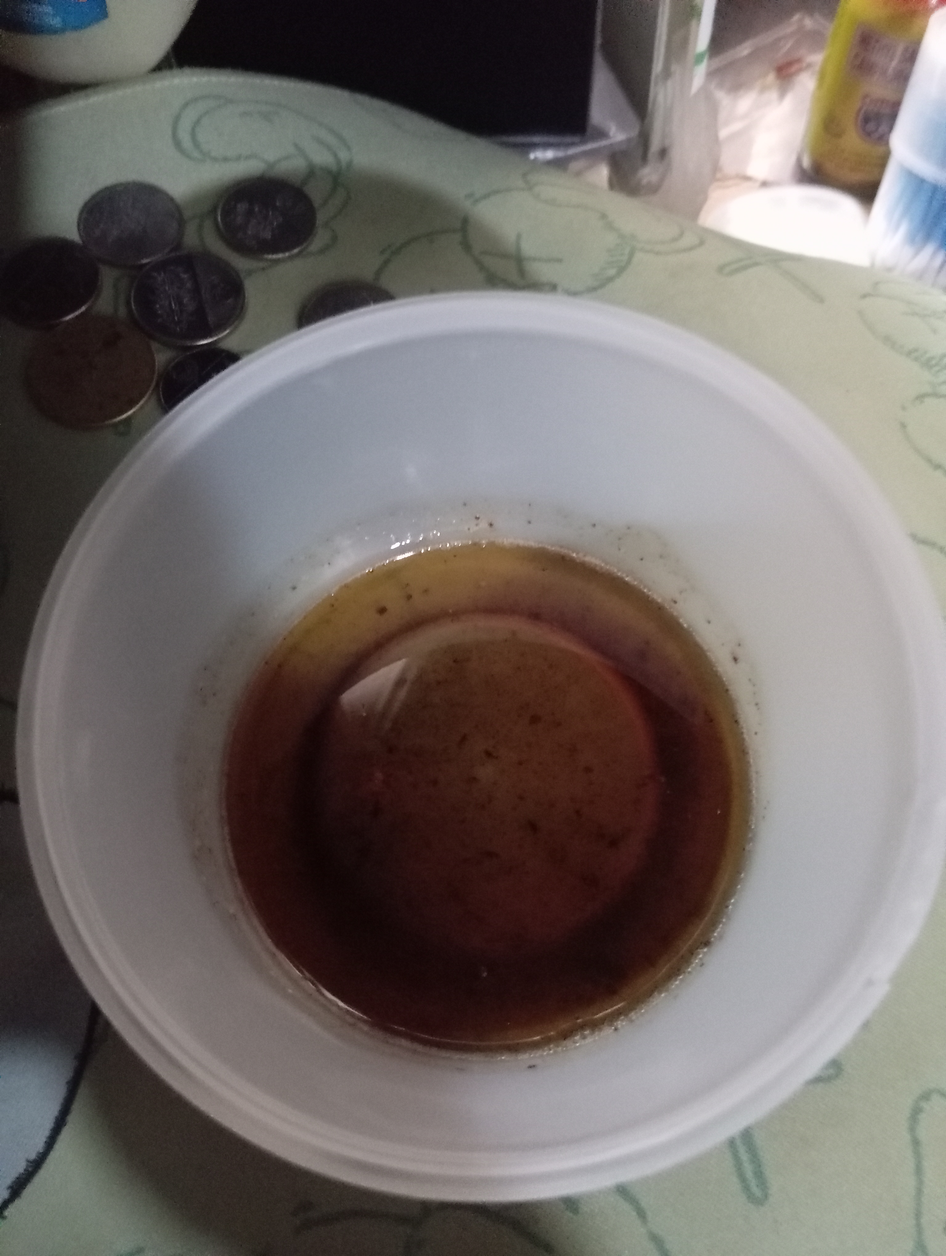non-reusable: (234, 545, 748, 1053)
